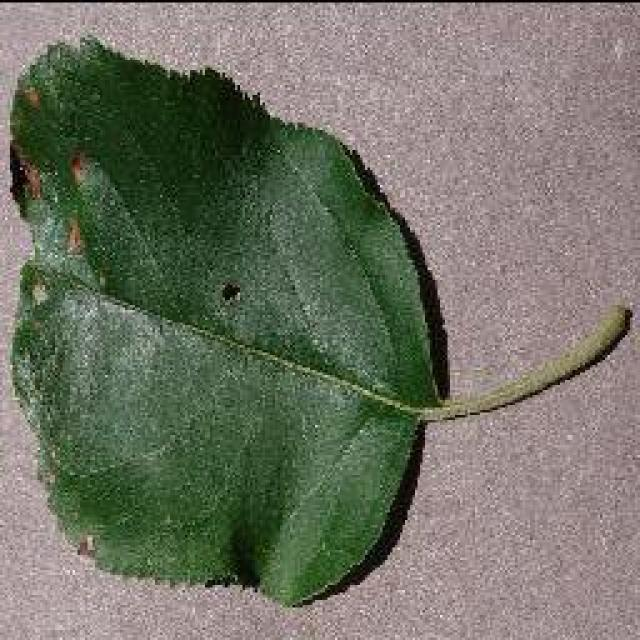apple healthy: (2, 30, 632, 608)
